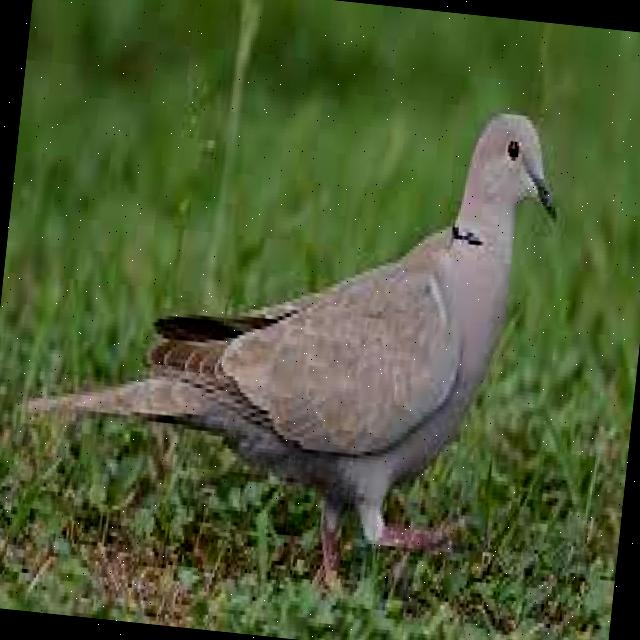dove: (1, 54, 570, 615)
